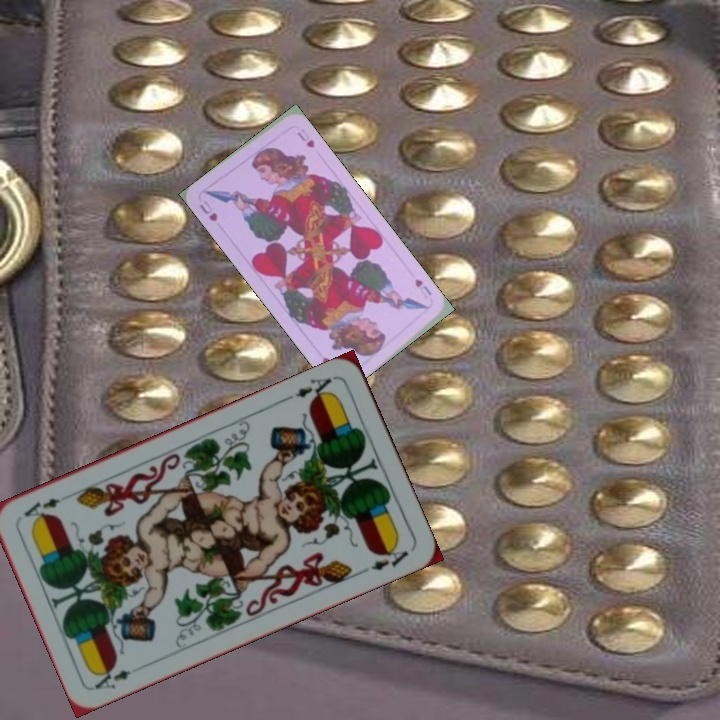EA: (290, 373, 337, 405), (90, 662, 134, 692)
HU: (411, 275, 434, 309), (195, 197, 220, 224)
